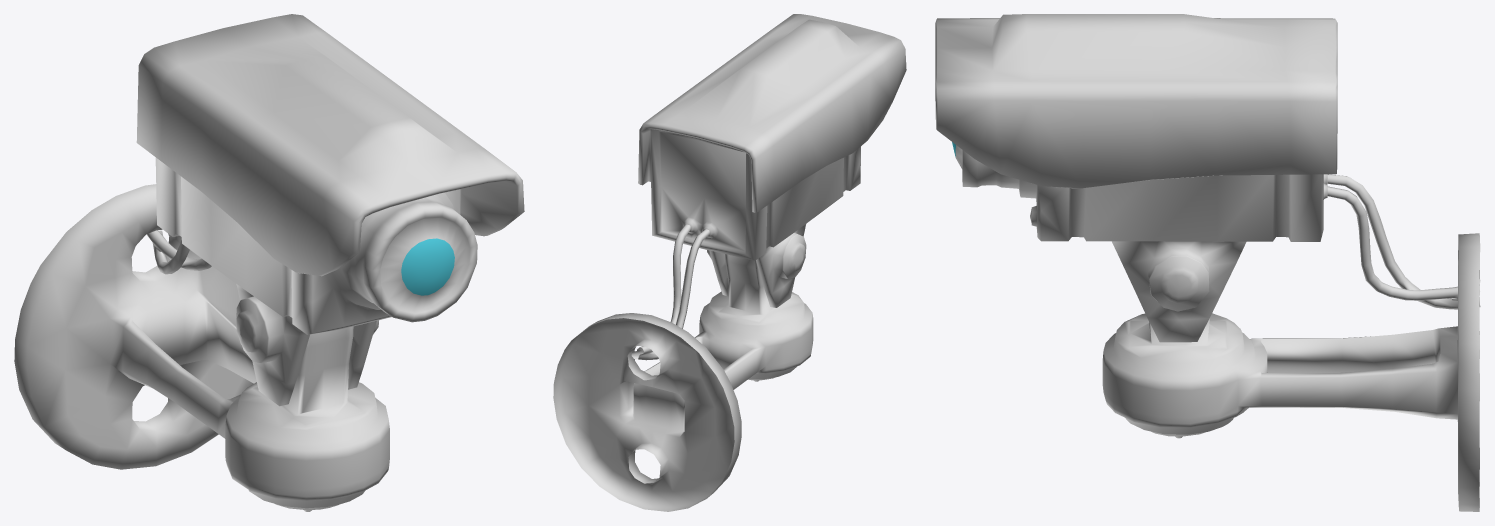
File: Telecamera.fbx
3 views of the same model, side by side, from view 1: azimuth 30°, elevation 25°; view 2: azimuth 150°, elevation 25°; view 3: azimuth 270°, elevation 25° (orthographic). The views are drawn at different scales.
Parts seen in each view (by area): view 1: head, lock, wires; view 2: head, lock, wires; view 3: head, lock, wires.
Boxes of the visible parts, box(x1,y1,x2,y2) form: head: box(136, 14, 524, 406); lock: box(14, 184, 389, 511); wires: box(146, 230, 211, 274); head: box(638, 14, 906, 307); lock: box(553, 254, 813, 511); wires: box(631, 224, 709, 360); head: box(935, 14, 1337, 342); lock: box(1102, 233, 1480, 511); wires: box(1327, 174, 1480, 309).
Size of the model in its own units: 2.52 by 4.91 by 4.74.
